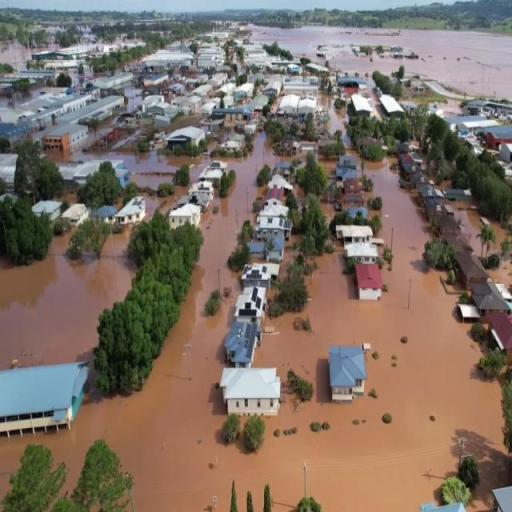flood: (0, 136, 512, 512), (252, 26, 512, 100), (0, 232, 134, 369), (44, 150, 195, 188), (320, 94, 348, 136), (0, 42, 39, 70), (282, 236, 298, 276), (320, 154, 337, 178), (322, 202, 335, 222)
house: (4, 362, 90, 438), (219, 364, 281, 422), (325, 342, 369, 396), (58, 95, 124, 127), (41, 126, 85, 162), (226, 320, 259, 366), (485, 308, 512, 359), (350, 260, 382, 301), (112, 194, 146, 232), (164, 122, 204, 154), (236, 284, 268, 322), (456, 252, 488, 290), (478, 281, 512, 314), (256, 203, 290, 235), (32, 198, 62, 232), (335, 222, 373, 247), (167, 200, 196, 232), (340, 230, 375, 255), (343, 240, 378, 264), (52, 91, 87, 113), (348, 94, 375, 122), (200, 160, 228, 187), (242, 261, 272, 285), (490, 481, 512, 512), (380, 92, 404, 119), (435, 215, 462, 239), (445, 231, 473, 254), (192, 180, 214, 208), (484, 130, 512, 151), (456, 300, 480, 324), (417, 501, 467, 512), (266, 236, 286, 263), (64, 204, 88, 226), (278, 93, 300, 117), (95, 204, 116, 226), (237, 82, 256, 101), (299, 95, 317, 115), (248, 240, 266, 258), (338, 154, 356, 170)
